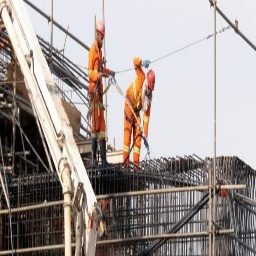helmet: (146, 69, 157, 94), (95, 19, 107, 37)
person: (87, 19, 114, 172), (123, 54, 158, 160)
vest: (125, 80, 150, 143), (88, 43, 108, 101)
